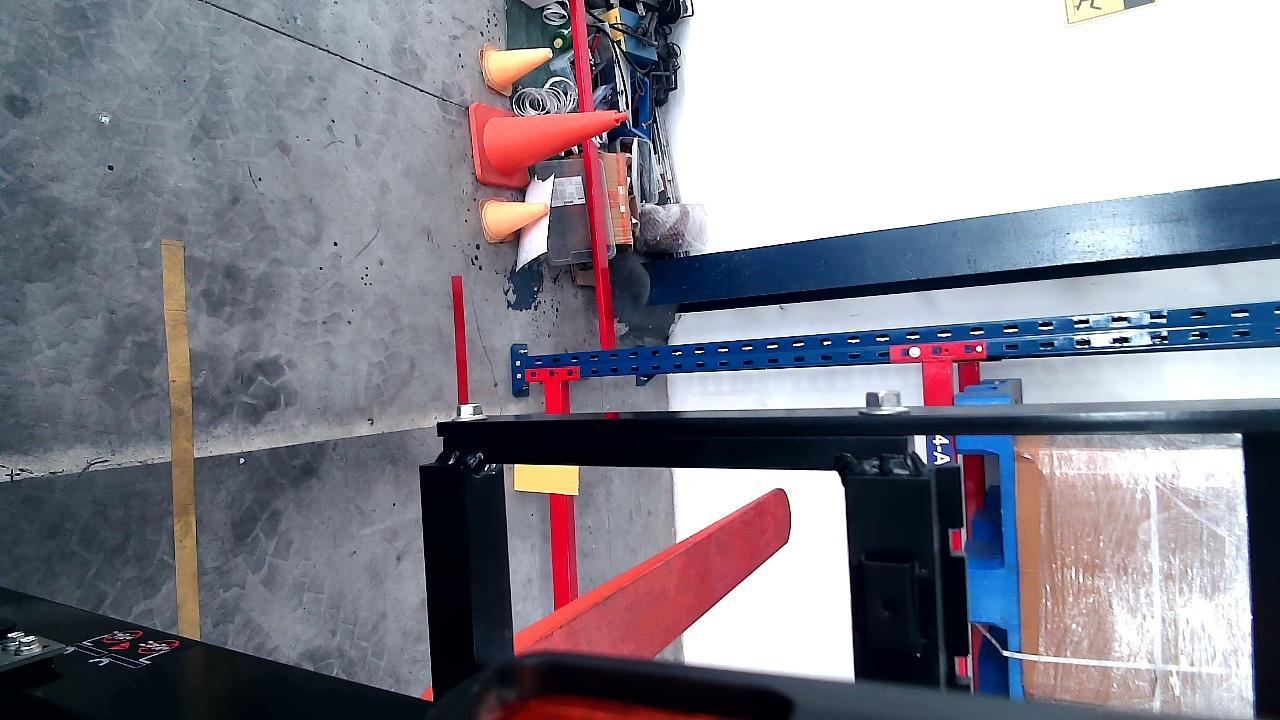red_line: (453, 272, 471, 402)
yellow_line: (163, 232, 199, 642)
